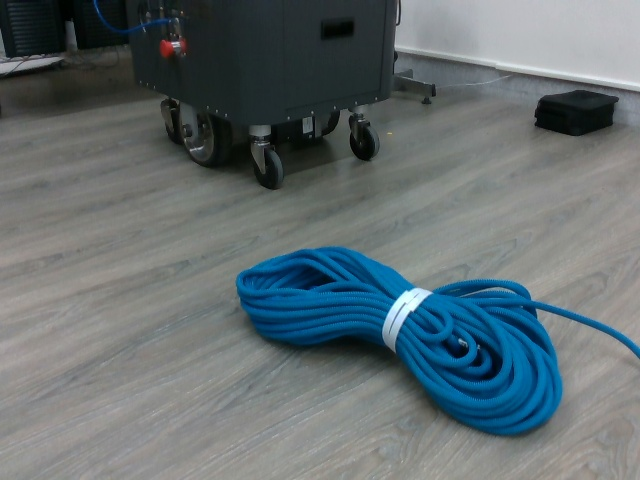rope: (233, 244, 566, 439)
